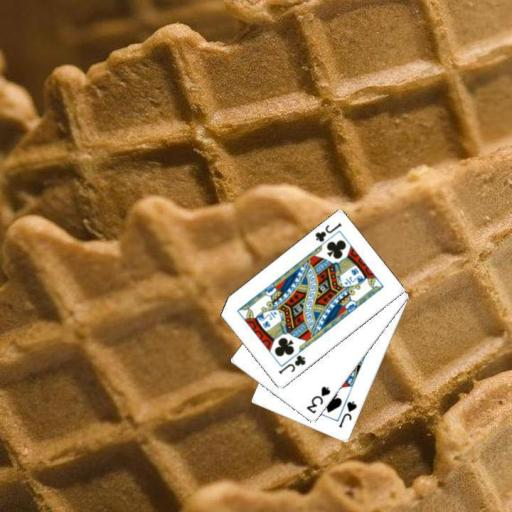card-corner: (304, 384, 332, 416), (275, 352, 307, 376), (312, 220, 344, 244), (336, 398, 358, 430)
